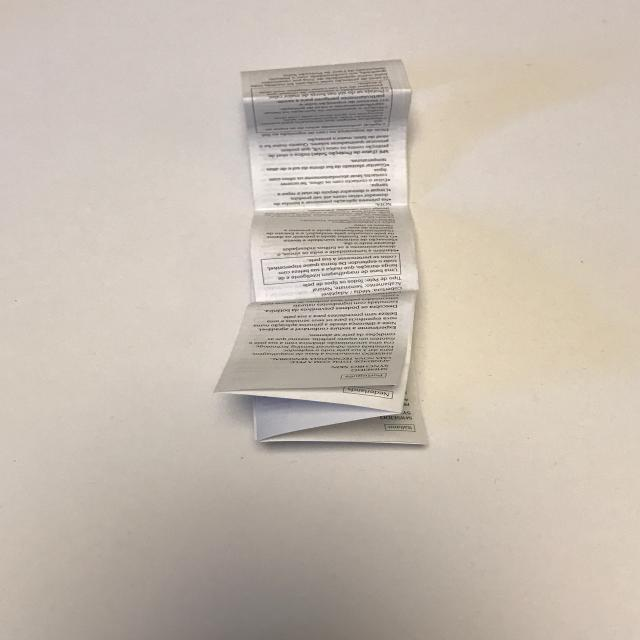paper: (205, 59, 436, 452)
